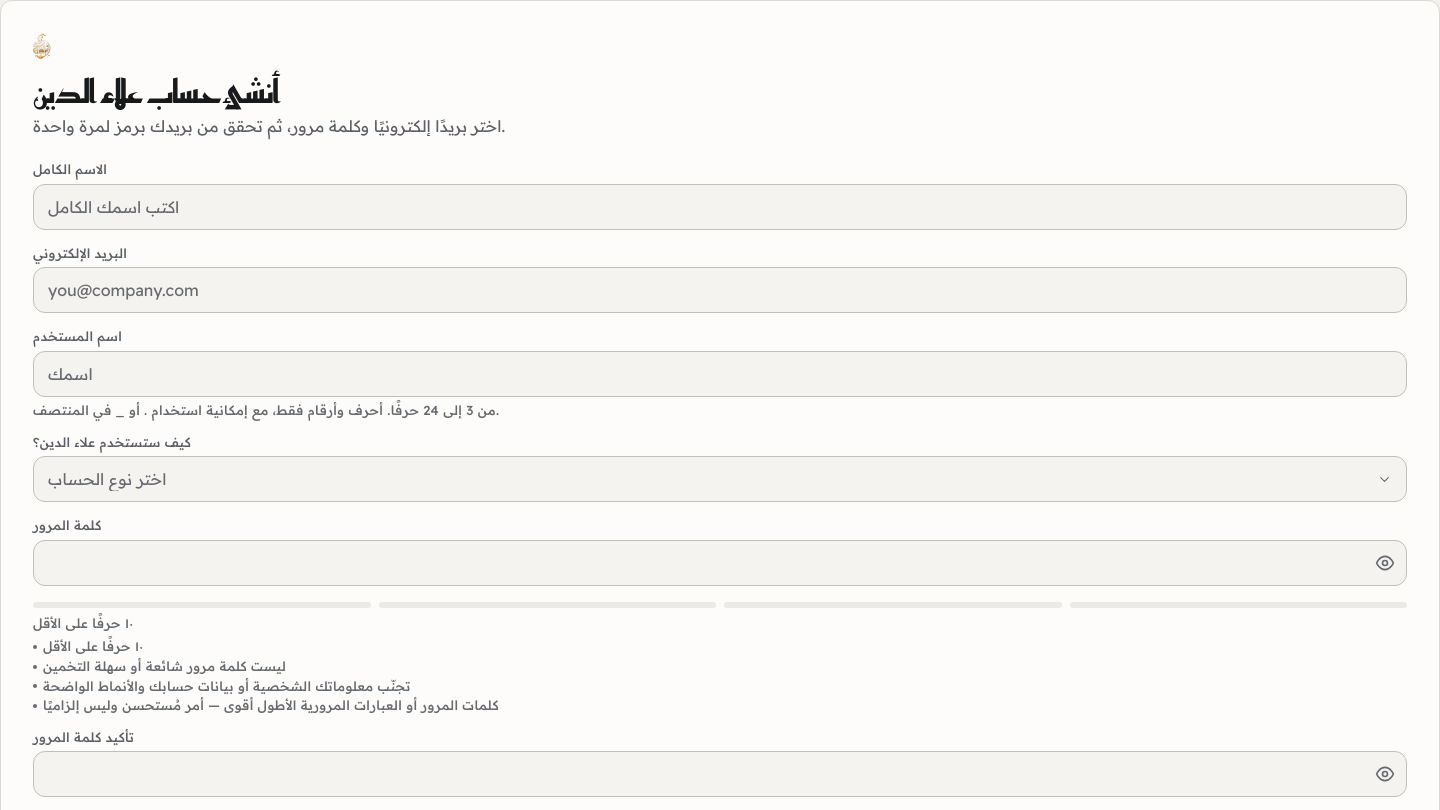
Test: PasswordSignUpForm › shows a mismatch error and disables submit when confirm-password differs
Type "a-long-enough-passphrase" into the password field labelled "كلمة المرور" at coordinates (720, 563), box [33,540,1407,586]
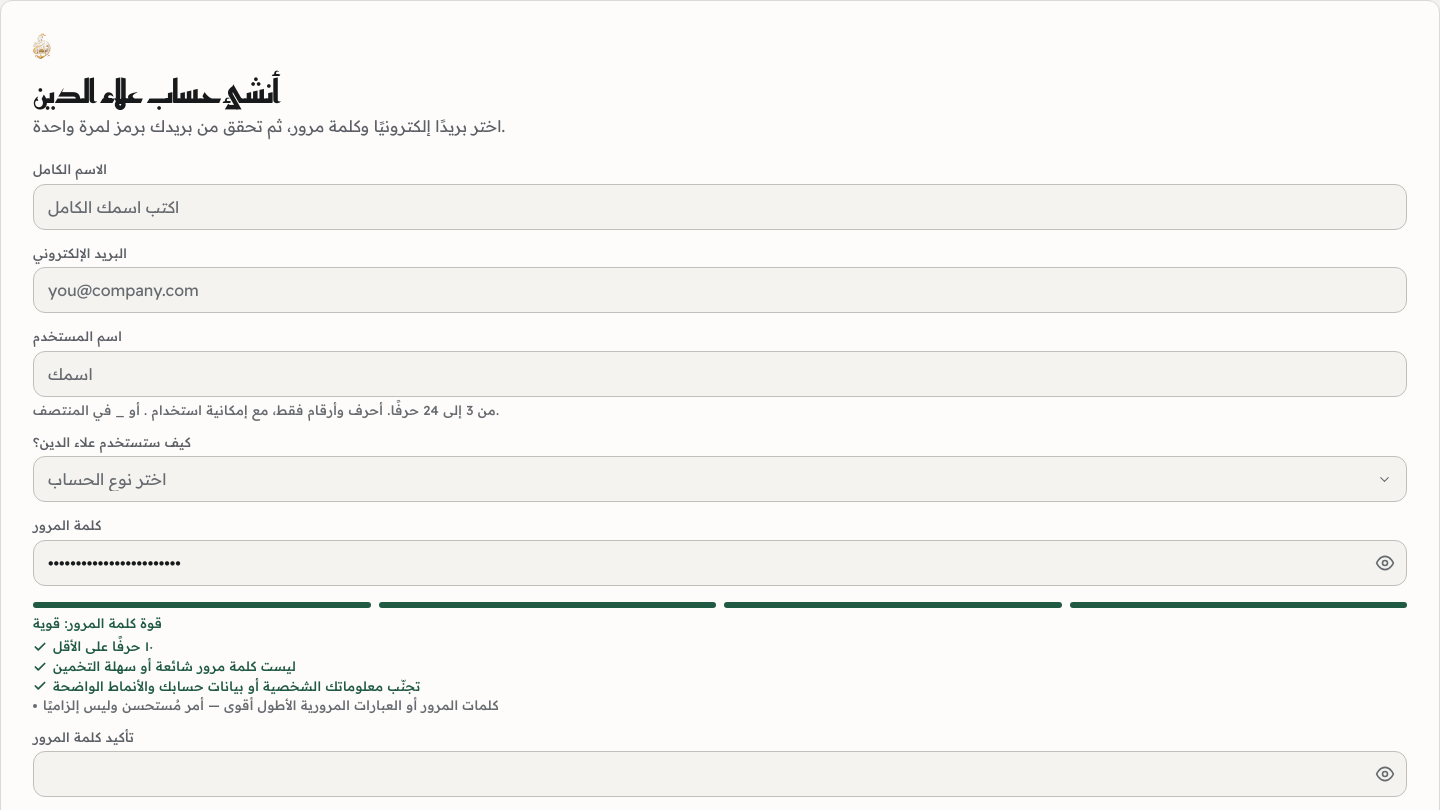
Type "a-different-passphrase-x" into the password field labelled "تأكيد كلمة المرور" at coordinates (720, 774), box [33,751,1407,797]
(page scrolled)
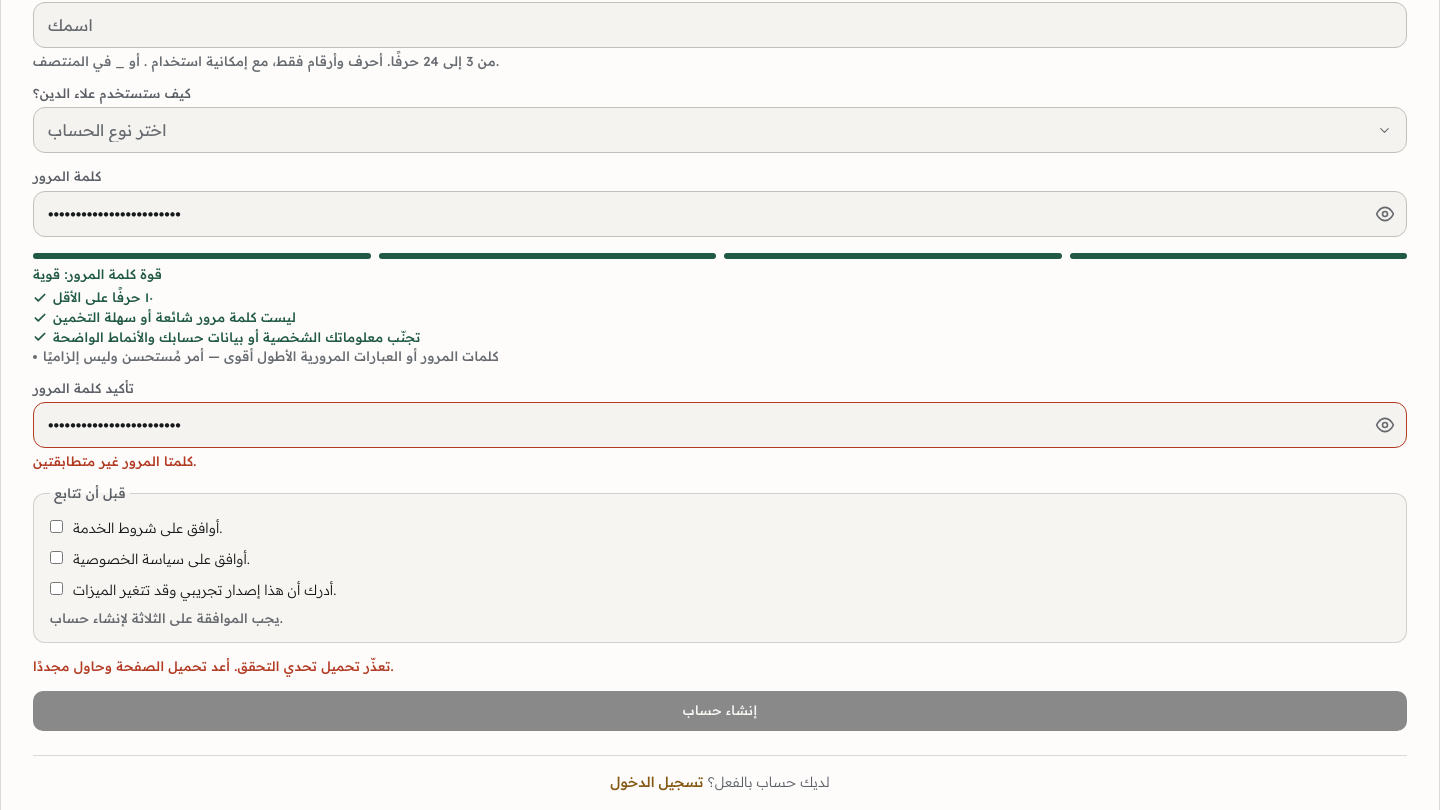
Expected: the button "إنشاء حساب" is disabled, [33,691,1407,731]
Result: the text "كلمتا المرور غير متطابقتين." is shown at [33,453,197,469]
